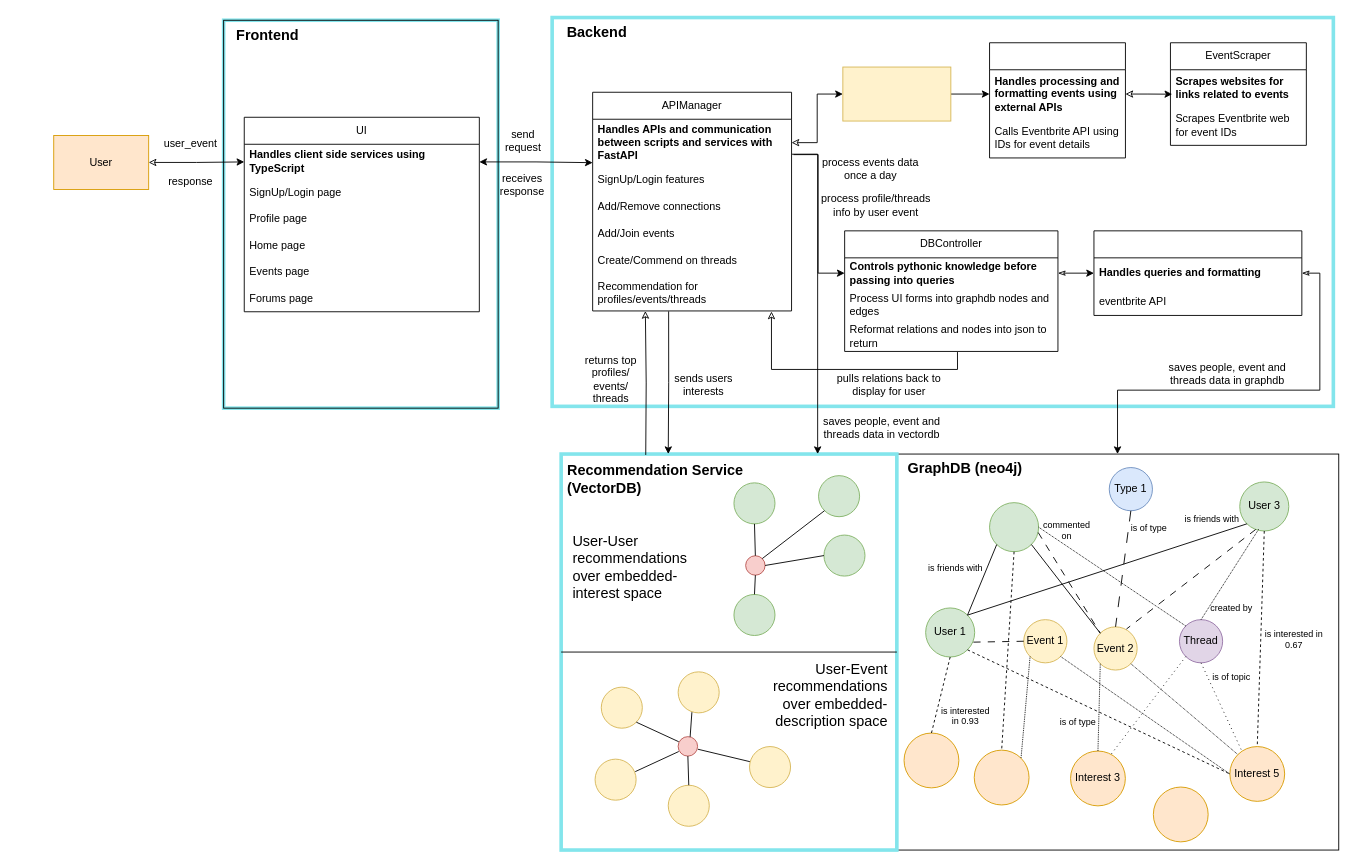
Some shapes in this 1355 by 867 pixel diagram are drawn without their labels. The box of each missing label's shape, as (x1, y1, x2, y2) in pixels:
APScheduler (midnight daily): (842, 66, 951, 121)
EventManager: (989, 42, 1125, 158)
Interest 1: (903, 732, 959, 788)
Interest 2: (973, 749, 1029, 805)
Interest 4: (1152, 786, 1208, 842)
QueryManager: (1093, 230, 1302, 315)
User 2: (989, 502, 1039, 552)
